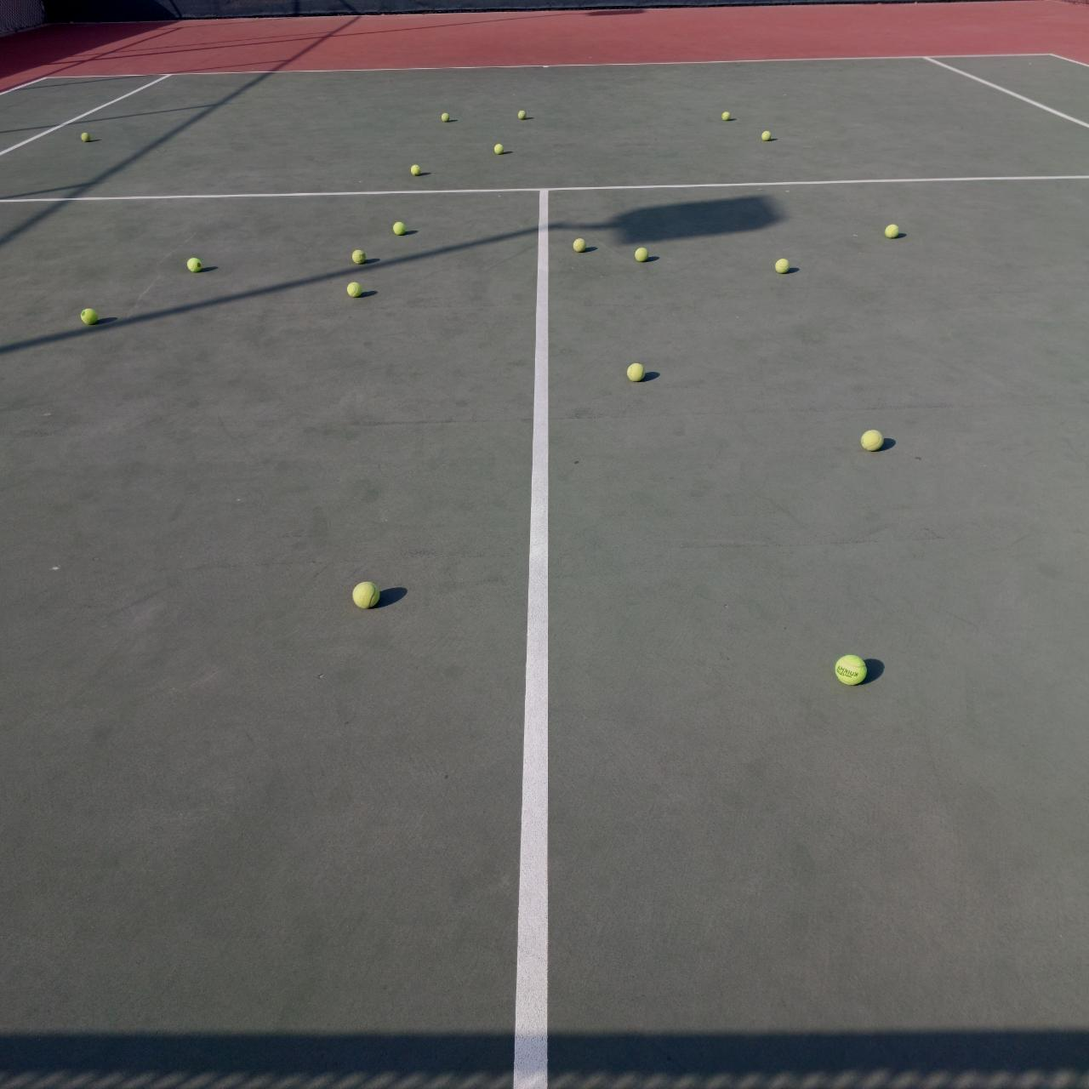tennis-ball: (835, 652, 869, 685), (352, 579, 381, 609), (861, 427, 885, 451), (626, 361, 646, 381), (81, 305, 99, 324), (775, 257, 791, 274), (187, 255, 202, 271), (347, 282, 362, 298), (634, 247, 649, 262), (573, 237, 587, 253), (352, 249, 366, 265), (885, 224, 899, 239), (393, 220, 406, 236), (411, 164, 421, 176), (494, 144, 504, 155), (517, 110, 527, 120), (761, 131, 771, 141), (721, 111, 730, 121), (81, 133, 90, 142), (441, 113, 449, 122)
